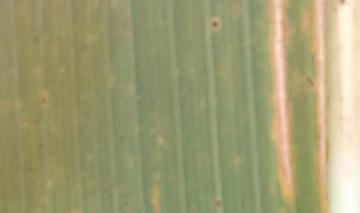tarspot: (208, 16, 221, 33), (212, 194, 225, 209)
